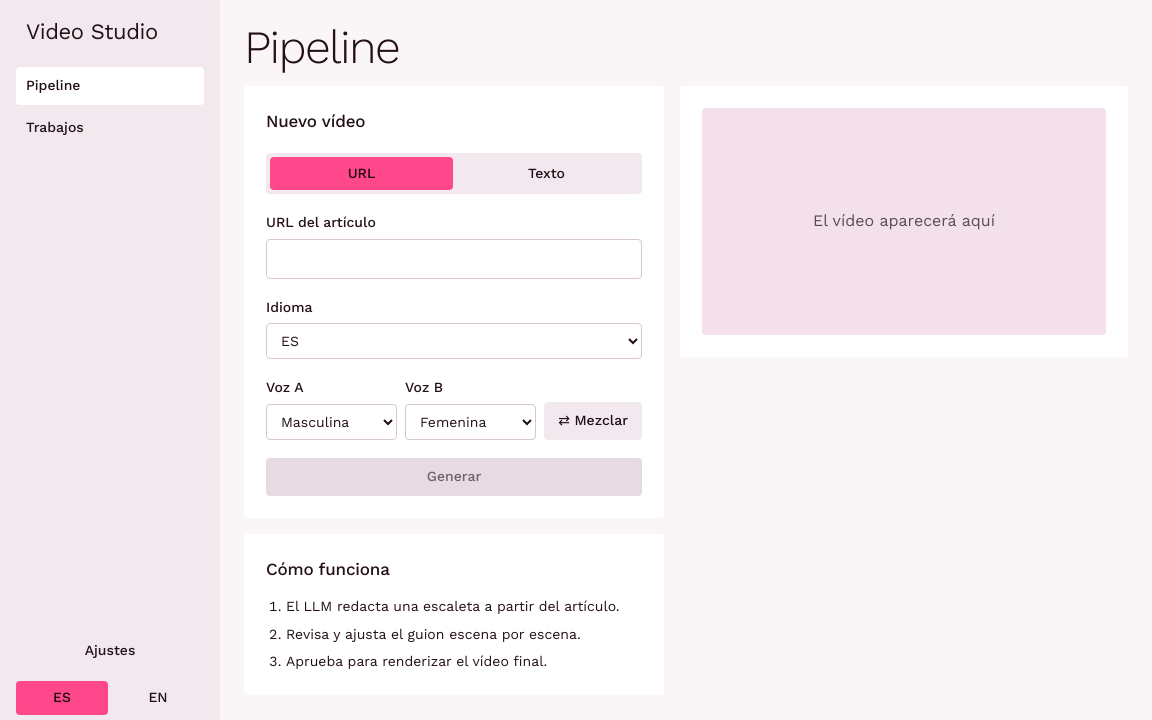
Test: App shell › opens and closes the settings modal from the sidebar
Click the button "Ajustes" at (110,651), box [16,632,204,669]
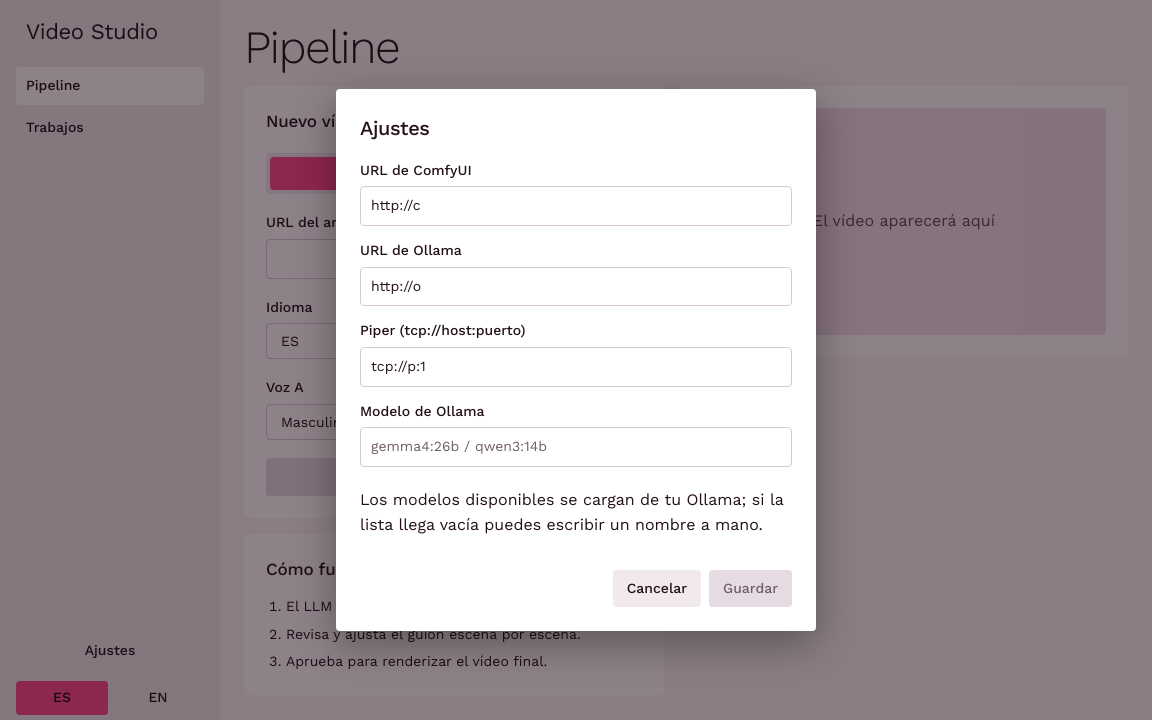
Expected: the field showing "http://c" is shown, [360,186,792,226]
Click the button "Cancelar" at (657,589), box [613,570,701,607]
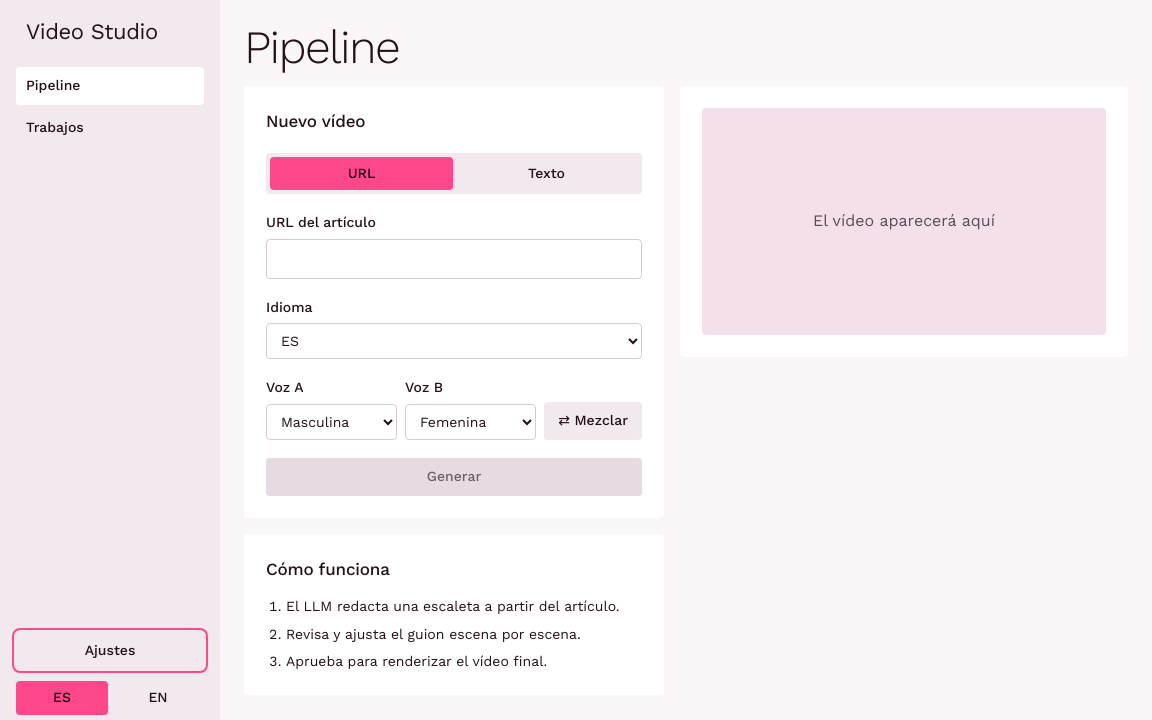
Expected: the dialog is gone
